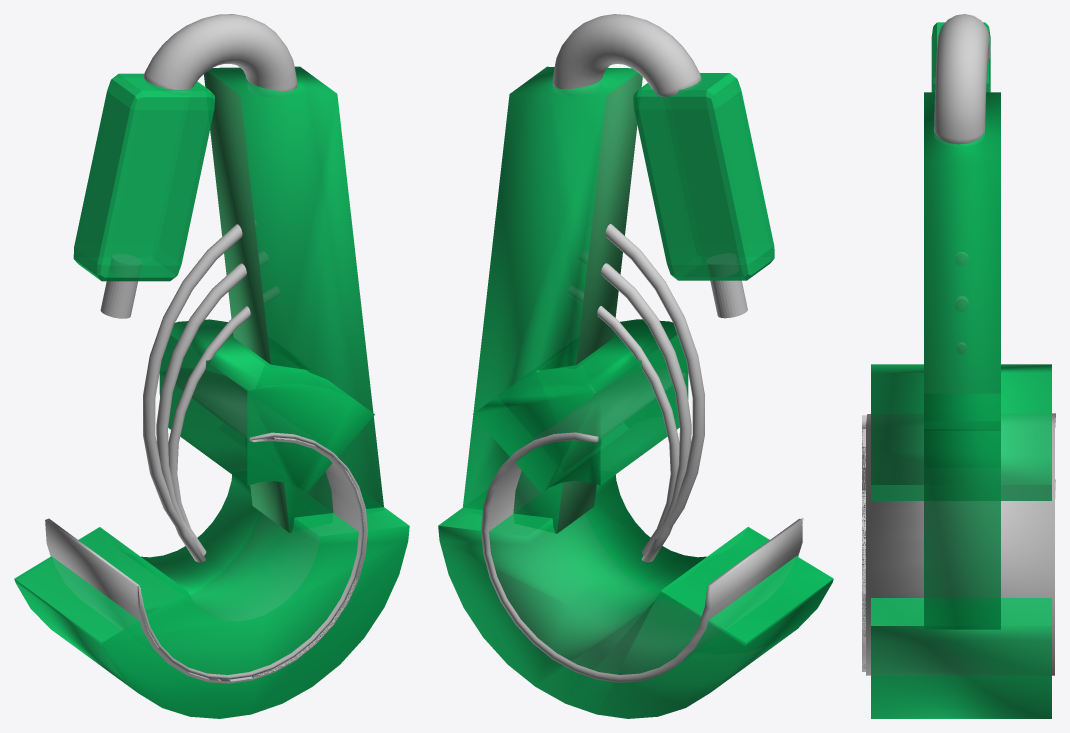
The model's file is aseton3_tool.obj.
3 renders of one model, left to right at view 1: azimuth 30°, elevation 25°; view 2: azimuth 150°, elevation 25°; view 3: azimuth 270°, elevation 25°, orthographic. The views are drawn at different scales.
Visible parts, largest first — view 1: Cylinder.002_Material.012, Cylinder.002_shiny1, Cylinder.002_Material.009; view 2: Cylinder.002_Material.012, Cylinder.002_shiny1, Cylinder.002_Material.009; view 3: Cylinder.002_Material.012, Cylinder.002_shiny1, Cylinder.002_Material.009.
Boxes of the visible parts, x1,y1,x2,y2 form: Cylinder.002_Material.012: [14, 66, 409, 718]; Cylinder.002_shiny1: [45, 14, 367, 683]; Cylinder.002_Material.009: [204, 71, 289, 532]; Cylinder.002_Material.012: [438, 66, 833, 718]; Cylinder.002_shiny1: [481, 14, 803, 682]; Cylinder.002_Material.009: [557, 73, 642, 533]; Cylinder.002_Material.012: [871, 22, 1051, 718]; Cylinder.002_shiny1: [862, 14, 1055, 675]; Cylinder.002_Material.009: [924, 93, 1000, 392].
Bounding box in the file's own units: 14.7 × 30.16 × 7.74.
